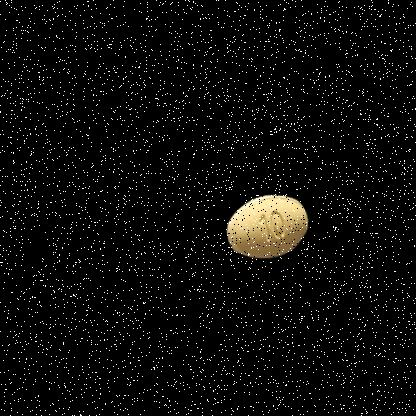tovast10: (206, 173, 323, 270)
